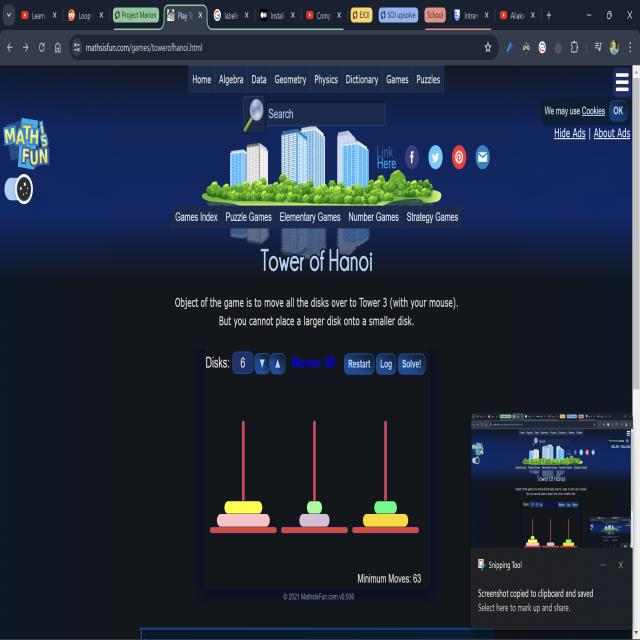disk1: (307, 501, 322, 514)
disk2: (374, 501, 397, 514)
disk3: (299, 514, 330, 526)
disk4: (225, 501, 262, 514)
disk5: (363, 514, 408, 526)
disk6: (217, 514, 270, 527)
